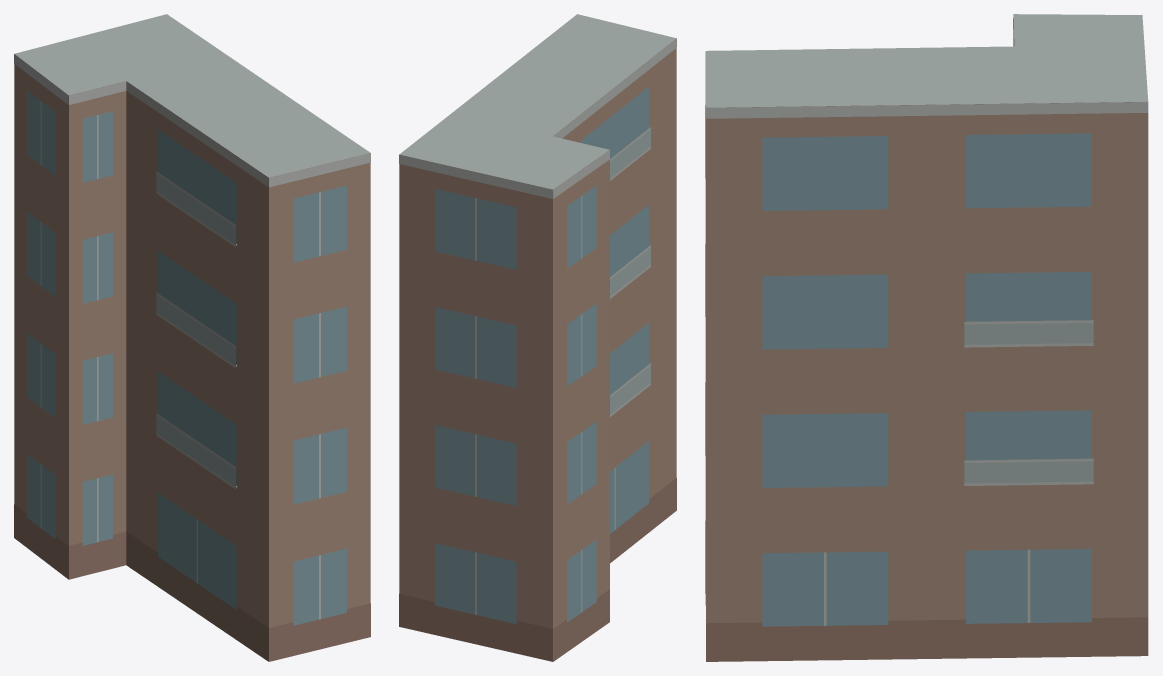
The model's file is survey-upis-32665205.glb.
3 renders of one model, left to right at view 1: azimuth 30°, elevation 25°; view 2: azimuth 150°, elevation 25°; view 3: azimuth 270°, elevation 25°, orthographic. The views are drawn at different scales.
Visible parts, largest first — view 1: survey-upis-32665205.tmp; view 2: survey-upis-32665205.tmp; view 3: survey-upis-32665205.tmp.
Part boxes in pixels (x1,y1,x2,y2): survey-upis-32665205.tmp: (14, 14, 370, 661); survey-upis-32665205.tmp: (399, 14, 676, 661); survey-upis-32665205.tmp: (705, 14, 1148, 661).
Bounding box in the file's own units: 4.43 × 12.2 × 8.84.
